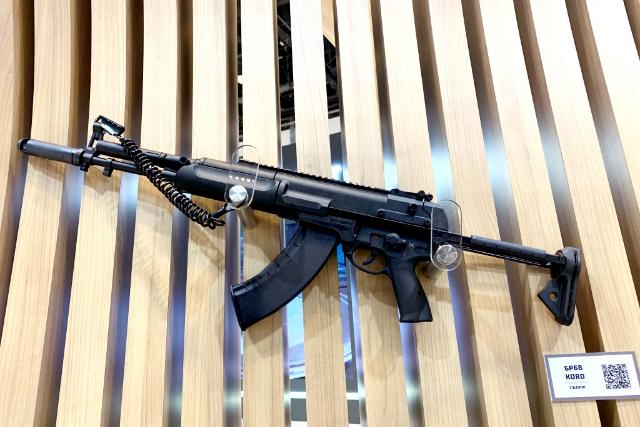rifle: (14, 111, 586, 341)
